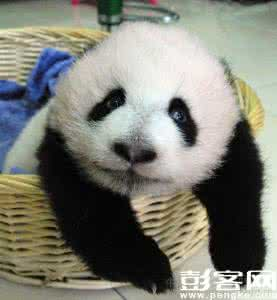panda: (23, 18, 270, 297)
